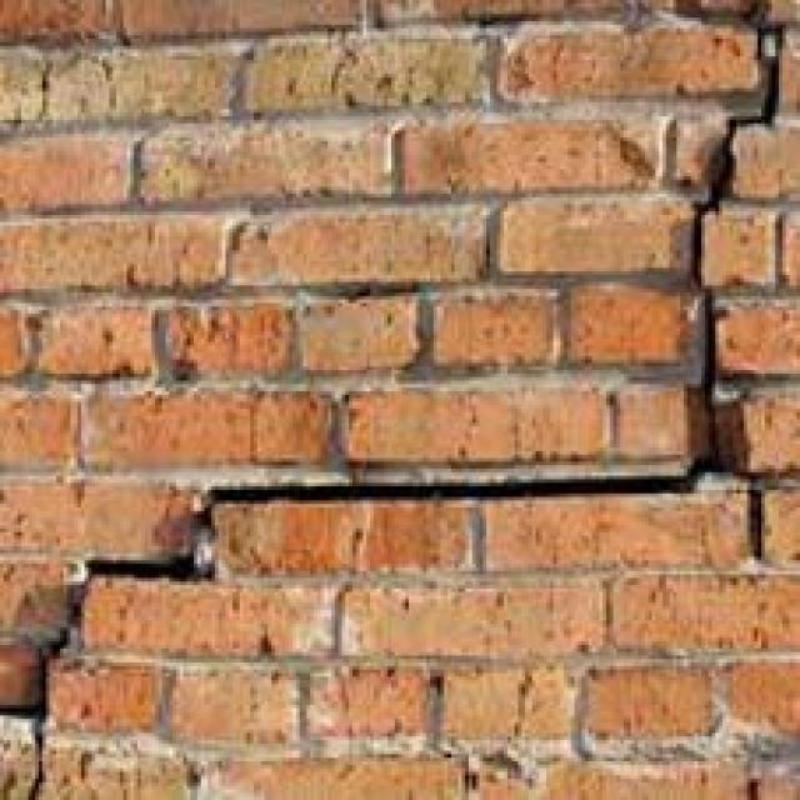pothole: (0, 291, 762, 799), (689, 25, 784, 287)
